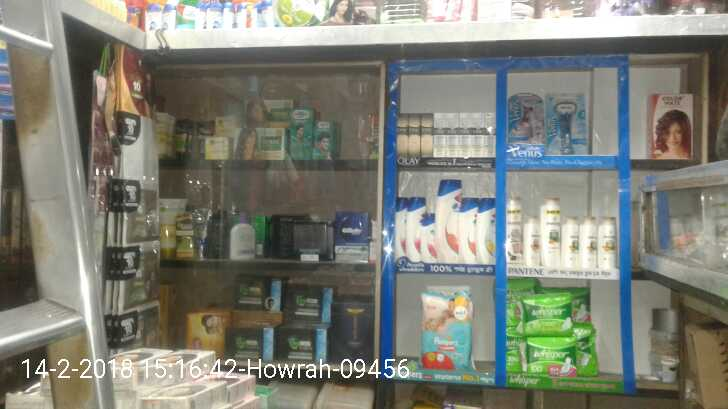gillete: (335, 211, 370, 244)
venus: (544, 91, 585, 157), (509, 91, 544, 157)
